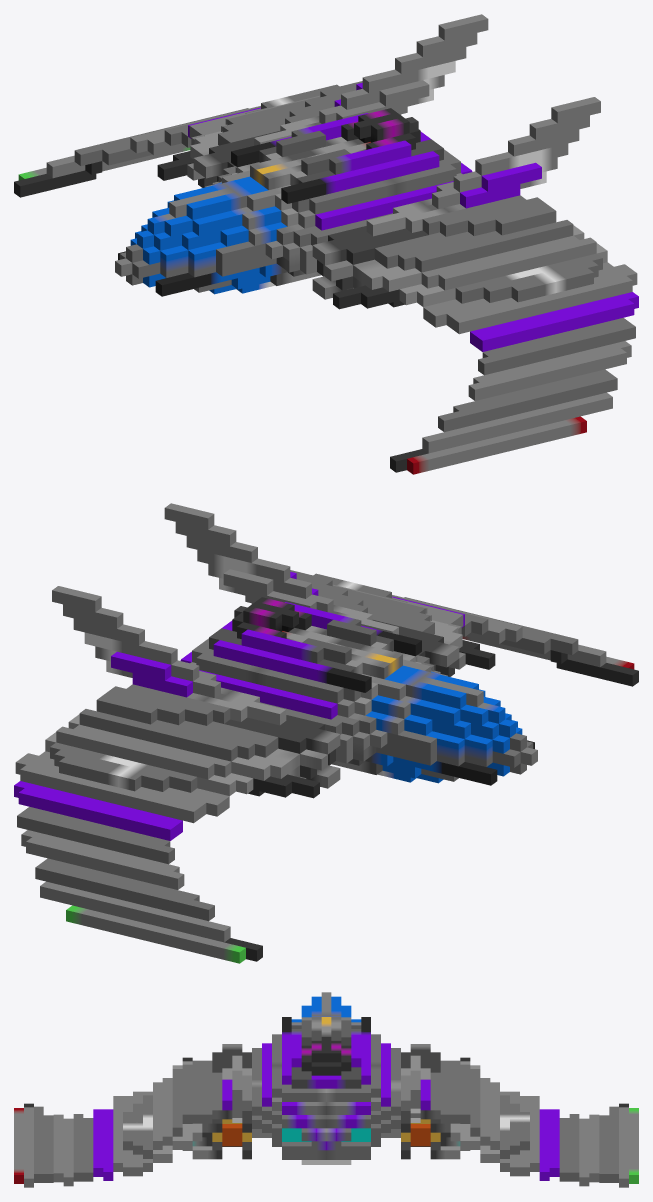
Rendered from RippleWolfV2.obj.
The picture shows the model from 3 angles, top to bottom: view 1: azimuth 30°, elevation 25°; view 2: azimuth 150°, elevation 25°; view 3: azimuth 270°, elevation 25°; orthographic projection. The views are drawn at different scales.
Size of the model in its own units: 39 by 17 by 63.
1 material, 1 textured.
